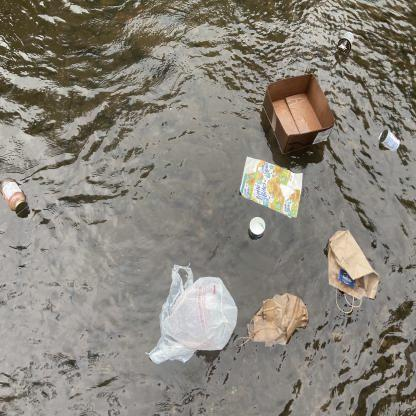Glass: (0, 174, 33, 224)
Metal: (377, 126, 403, 156)
Plastic: (142, 262, 241, 369)
Trash: (320, 225, 382, 315), (230, 289, 311, 357), (247, 212, 270, 240)
